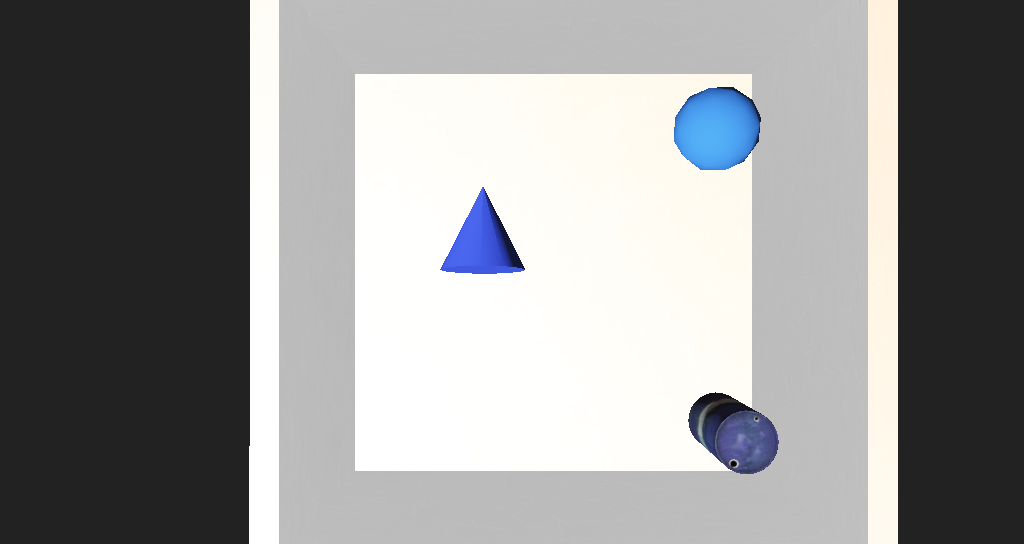cone: (610, 334, 670, 372)
cylinder: (421, 217, 482, 270)
sphere: (596, 167, 657, 215)
